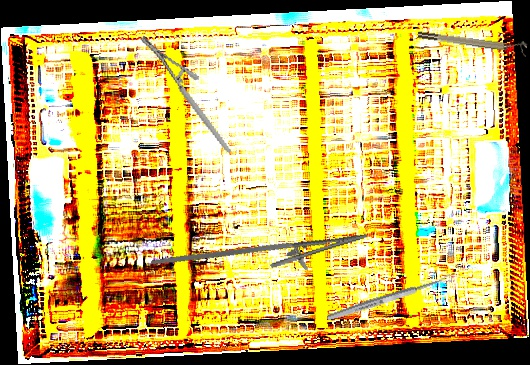Fixation Ring: (417, 24, 528, 58)
Needle Holder: (150, 207, 372, 307), (138, 20, 232, 169)
Surgical Spoon: (326, 273, 453, 323)
